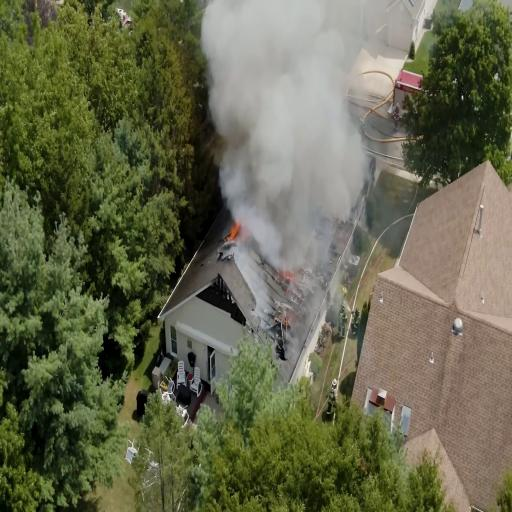smoke: (211, 0, 345, 204)
